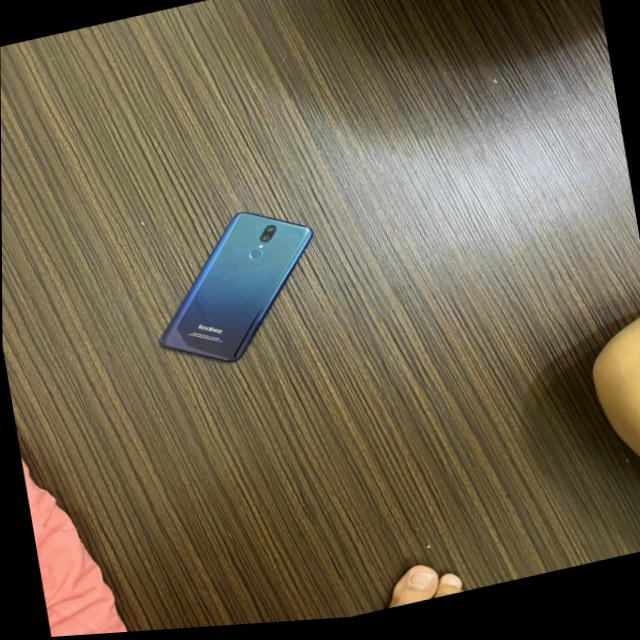Smartphone: (137, 207, 349, 386)
